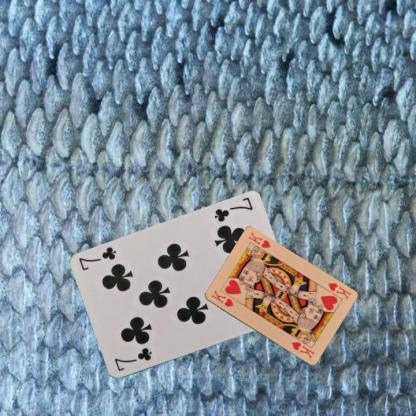7c: (211, 194, 254, 224), (112, 346, 154, 373)
Kh: (325, 280, 352, 301), (209, 288, 235, 308)
